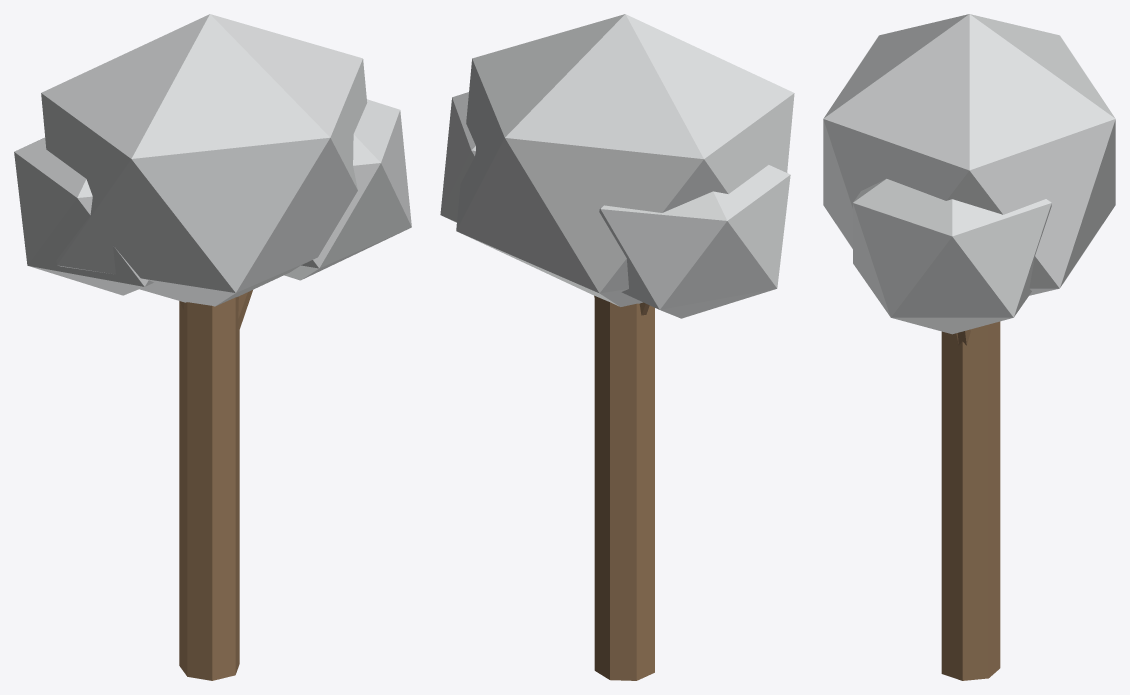
File: leaf_tree_01_snow.glb
The picture shows the model from 3 angles, left to right: view 1: azimuth 30°, elevation 25°; view 2: azimuth 150°, elevation 25°; view 3: azimuth 270°, elevation 25°; orthographic projection.
Visible parts, largest first — view 1: leaf_tree_01_snow_canopy_1, leaf_tree_01_snow_trunk, leaf_tree_01_snow_canopy_2, leaf_tree_01_snow_canopy_3; view 2: leaf_tree_01_snow_canopy_1, leaf_tree_01_snow_trunk, leaf_tree_01_snow_canopy_3, leaf_tree_01_snow_canopy_2; view 3: leaf_tree_01_snow_canopy_1, leaf_tree_01_snow_canopy_2, leaf_tree_01_snow_trunk.
Boxes of the visible parts, bbox=[...] form: leaf_tree_01_snow_canopy_1: bbox=[41, 14, 367, 306]; leaf_tree_01_snow_trunk: bbox=[179, 296, 239, 680]; leaf_tree_01_snow_canopy_2: bbox=[284, 99, 411, 280]; leaf_tree_01_snow_canopy_3: bbox=[14, 137, 153, 295]; leaf_tree_01_snow_canopy_1: bbox=[456, 14, 794, 306]; leaf_tree_01_snow_trunk: bbox=[594, 296, 654, 680]; leaf_tree_01_snow_canopy_3: bbox=[599, 165, 790, 318]; leaf_tree_01_snow_canopy_2: bbox=[440, 92, 475, 222]; leaf_tree_01_snow_canopy_1: bbox=[823, 14, 1115, 295]; leaf_tree_01_snow_canopy_2: bbox=[853, 178, 1051, 334]; leaf_tree_01_snow_trunk: bbox=[941, 321, 1000, 680].
Size of the model in its own units: 2.34 by 4.2 by 1.7.
